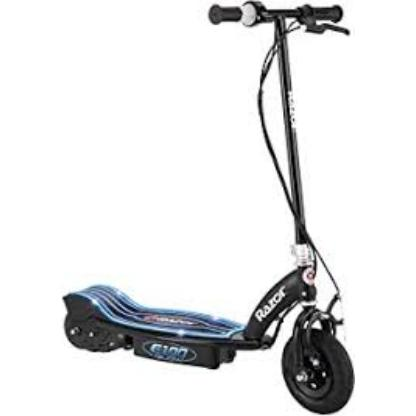bike: (63, 0, 360, 415), (63, 240, 355, 416)
